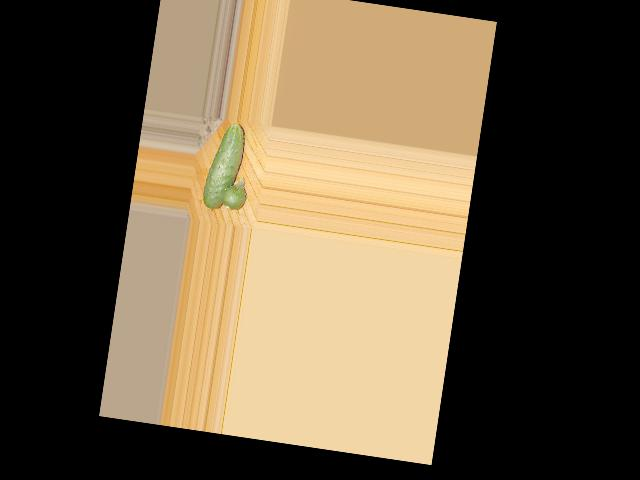cucumber: (201, 120, 247, 212)
